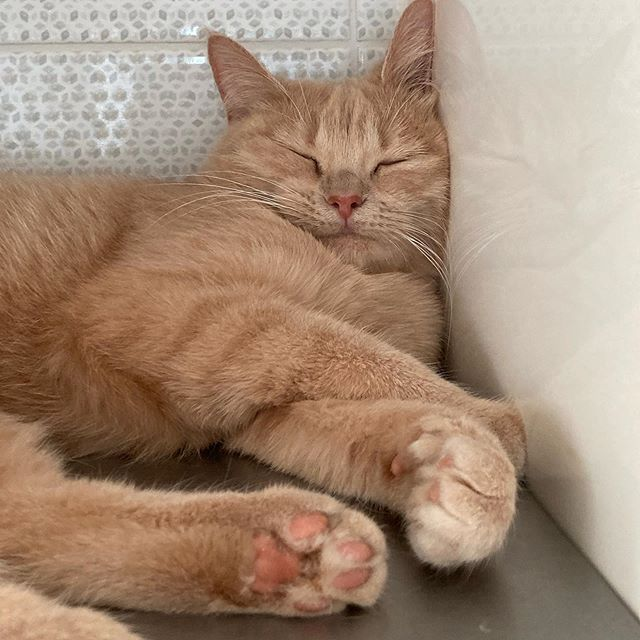cat: (197, 5, 454, 288)
